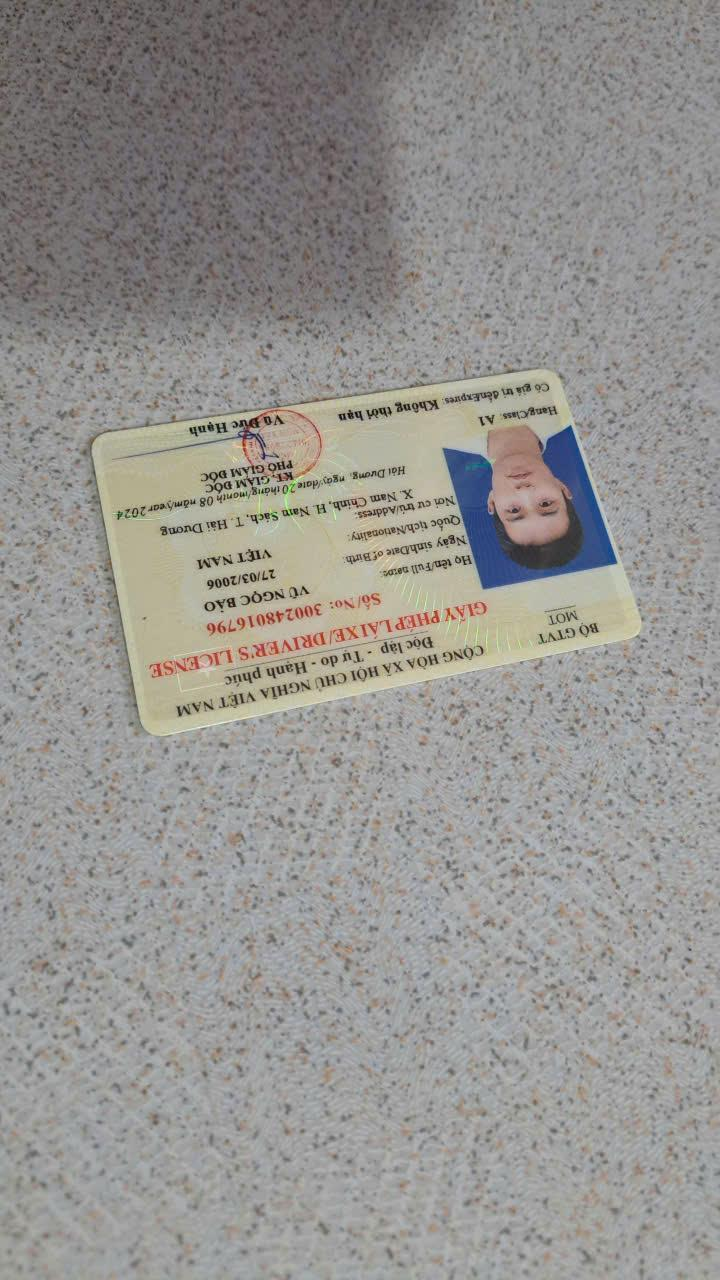gplx: (82, 353, 660, 755)
